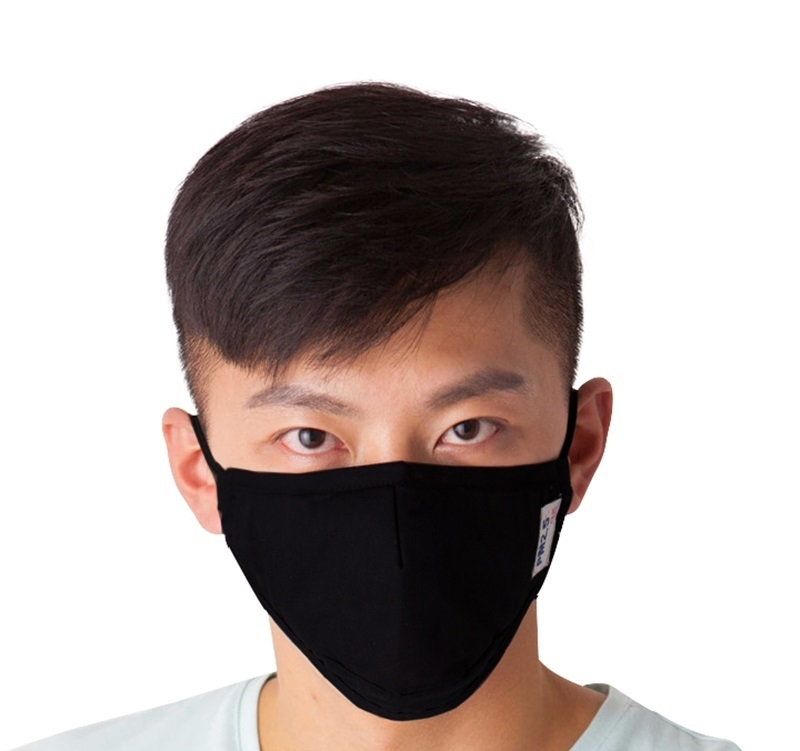face_mask: (214, 258, 556, 694)
